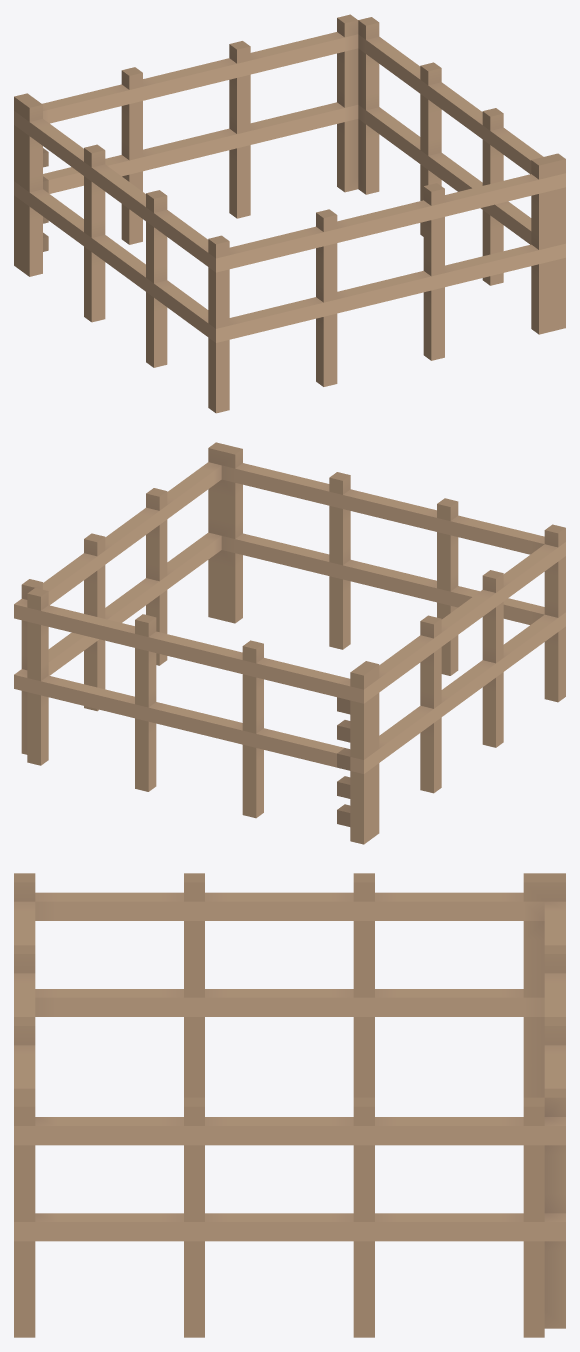
File: life_stage_scaffolding.glb
3 renders of one model, top to bottom at view 1: azimuth 30°, elevation 25°; view 2: azimuth 150°, elevation 25°; view 3: azimuth 270°, elevation 25°, orthographic. The views are drawn at different scales.
Parts seen in each view (by area): view 1: life_stage_scaffolding; view 2: life_stage_scaffolding; view 3: life_stage_scaffolding.
Part boxes in pixels (x1,y1,x2,y2): life_stage_scaffolding: (14, 14, 565, 413); life_stage_scaffolding: (14, 442, 565, 844); life_stage_scaffolding: (14, 873, 565, 1337).
Bounding box in the file's own units: 3.25 × 1.5 × 3.25.
